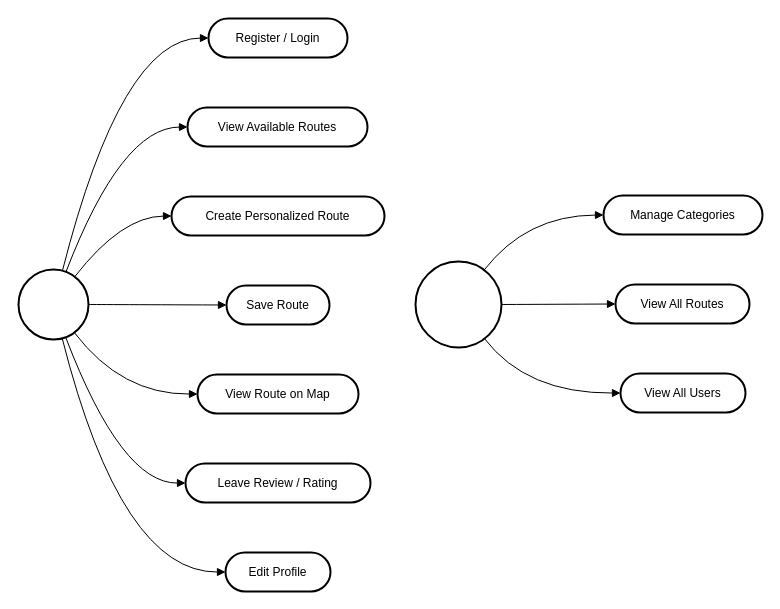
Image size: 780x609. Some labels were removed from this diagram. Each missing label, with the box of its shape:
👤 User: (17, 268, 89, 340)
🛠️ Admin: (414, 260, 502, 348)
